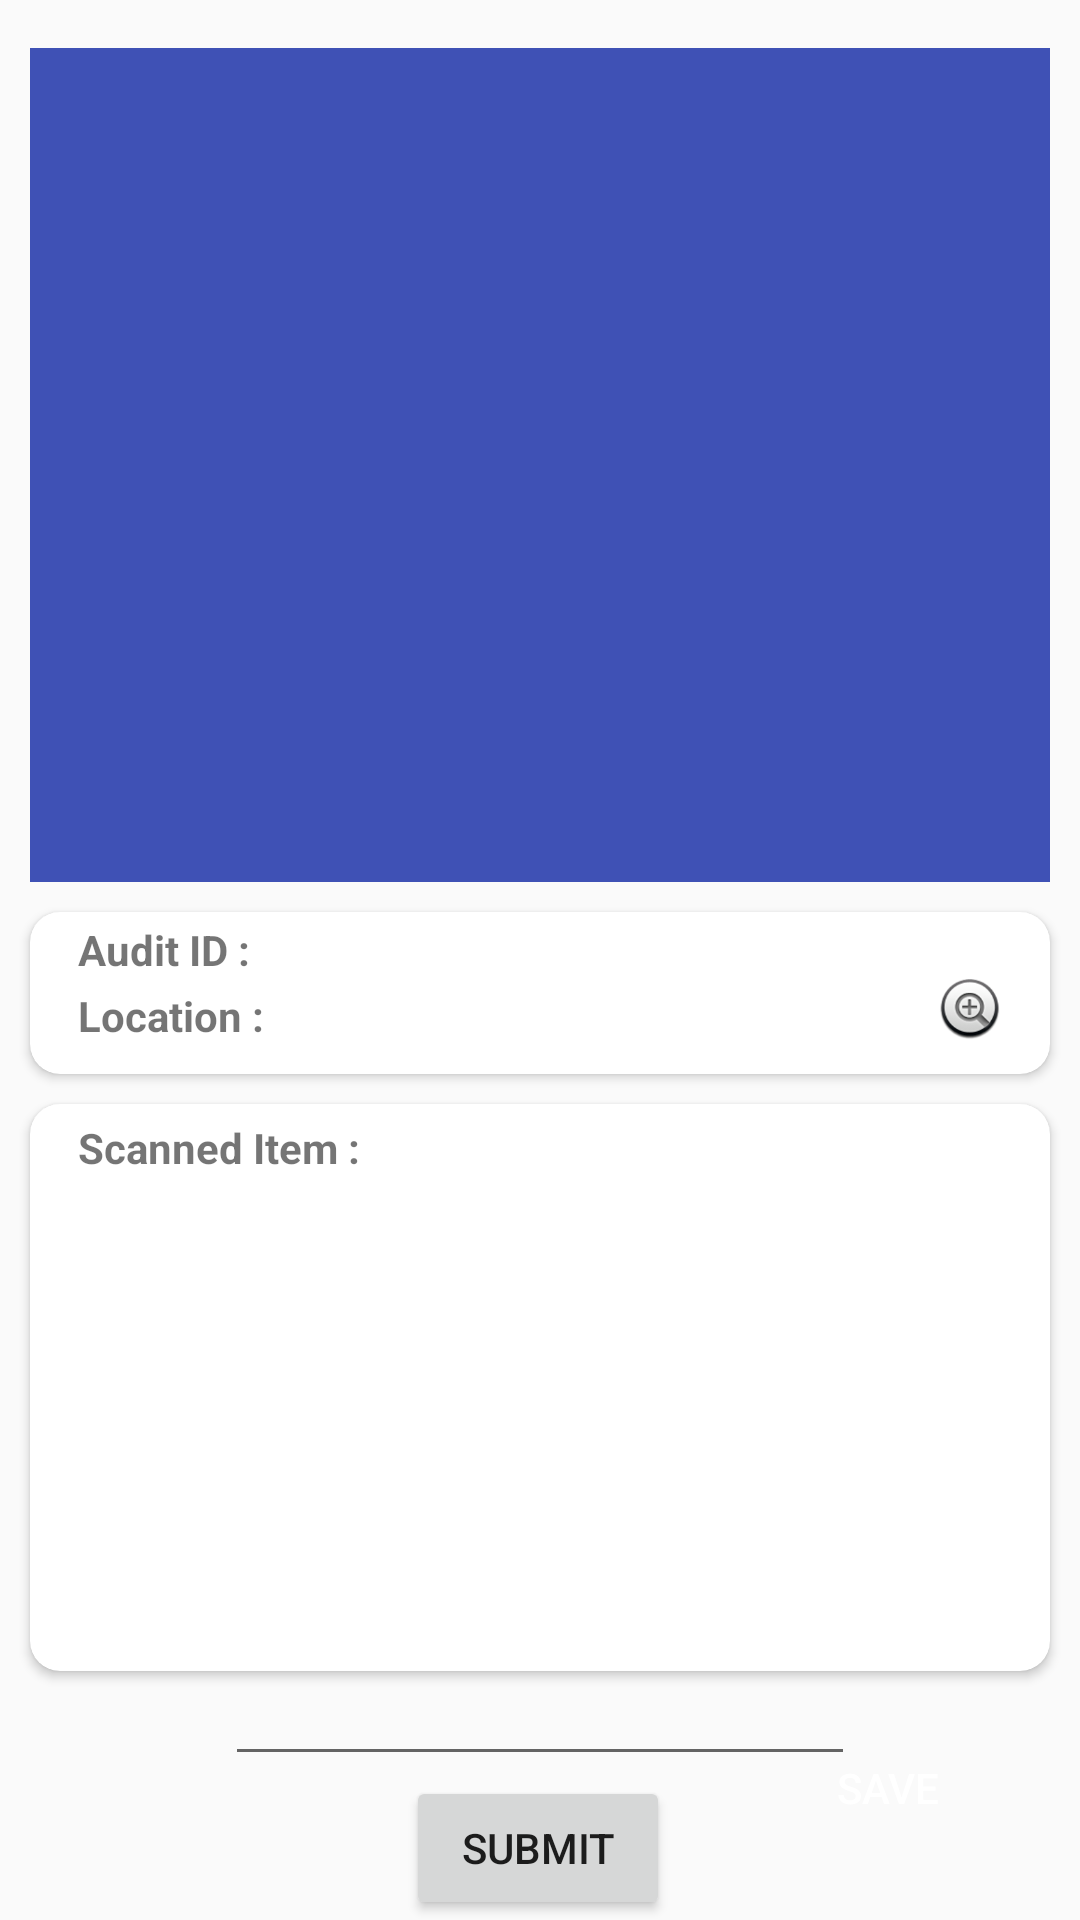

Icons on this 1080px x 1920px Android screen, each with the point to tap as (x=x, y=y):
plus: (x=969, y=1009)
